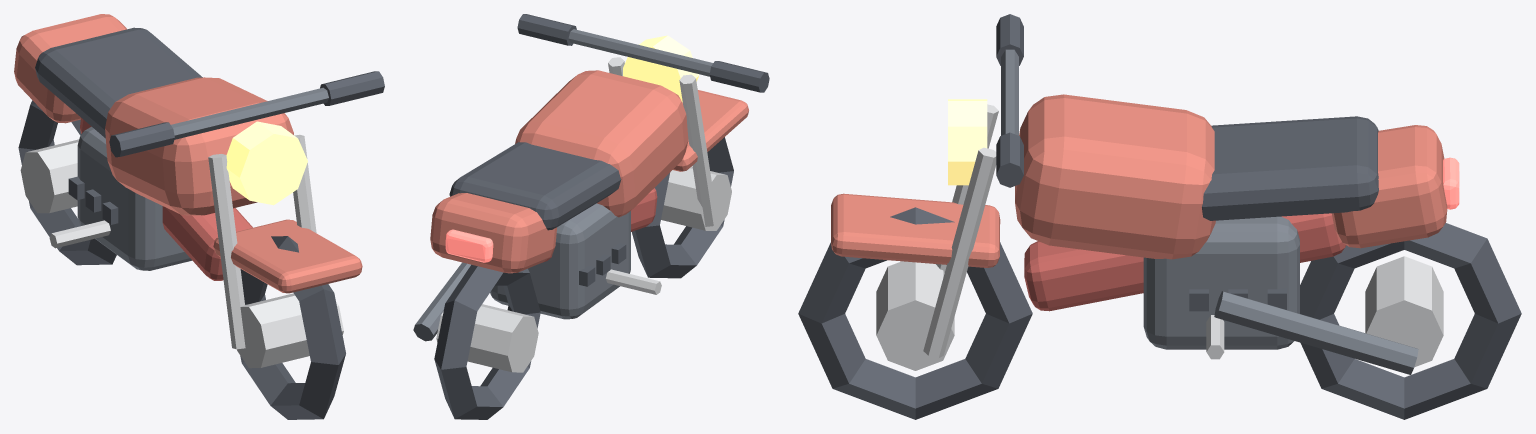
Rendered from lowpoly_motorbike.glb.
3 renders of one model, left to right at view 1: azimuth 30°, elevation 25°; view 2: azimuth 150°, elevation 25°; view 3: azimuth 270°, elevation 25°, orthographic. The views are drawn at different scales.
Parts seen in each view (by area): view 1: lowpoly_motorbike; view 2: lowpoly_motorbike; view 3: lowpoly_motorbike.
Part boxes in pixels (left/top/right/bottom): lowpoly_motorbike: left=14, top=14, right=384, bottom=419; lowpoly_motorbike: left=413, top=14, right=769, bottom=419; lowpoly_motorbike: left=798, top=14, right=1521, bottom=419.
Size of the model in its own units: 1.08 by 1.12 by 2.22.
